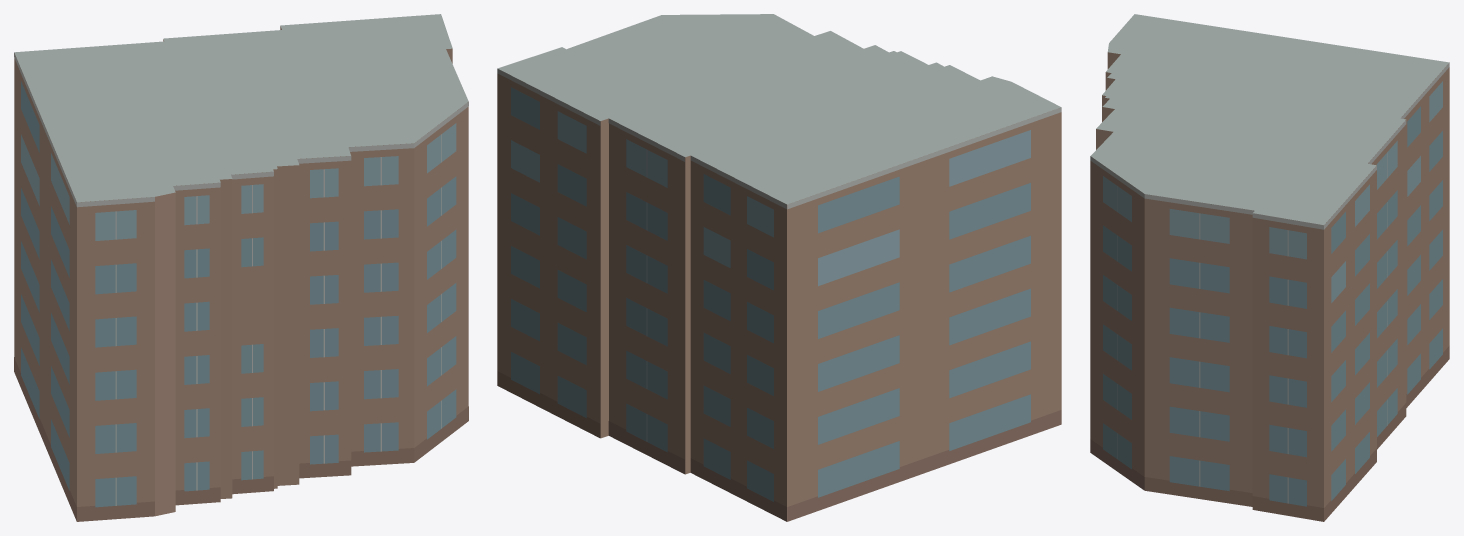
Rendered from survey-upis-32999151.glb.
The picture shows the model from 3 angles, left to right: view 1: azimuth 30°, elevation 25°; view 2: azimuth 150°, elevation 25°; view 3: azimuth 270°, elevation 25°; orthographic projection. The views are drawn at different scales.
Parts seen in each view (by area): view 1: survey-upis-32999151.tmp; view 2: survey-upis-32999151.tmp; view 3: survey-upis-32999151.tmp.
Boxes of the visible parts, x1,y1,x2,y2 form: survey-upis-32999151.tmp: (14,14,468,521); survey-upis-32999151.tmp: (497,14,1061,521); survey-upis-32999151.tmp: (1090,14,1449,521).
Bounding box in the file's own units: 24.51 × 16.05 × 17.61.
